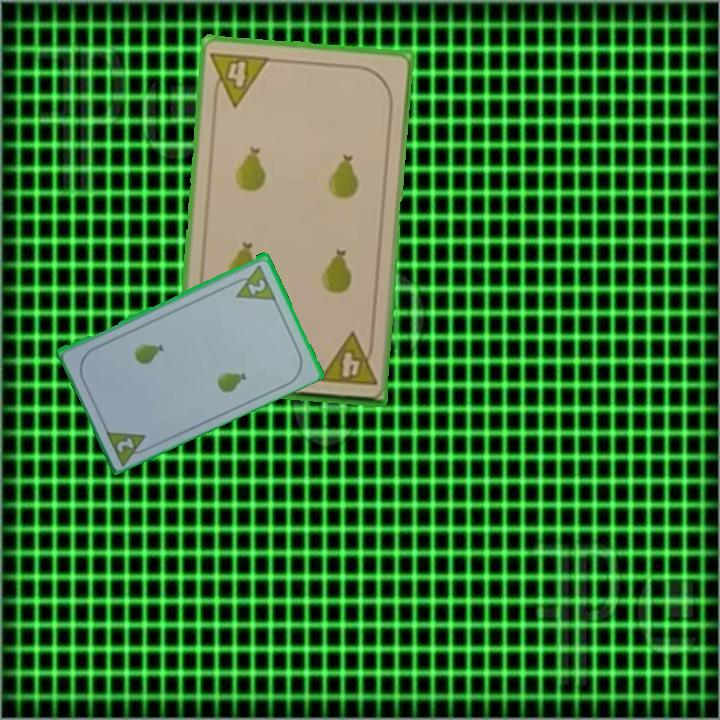2p: (244, 275, 269, 297), (113, 433, 137, 455)
4p: (207, 47, 272, 109), (314, 330, 380, 389)
